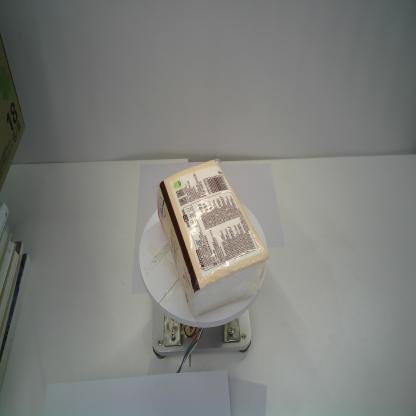Tissue: (157, 156, 268, 318)
